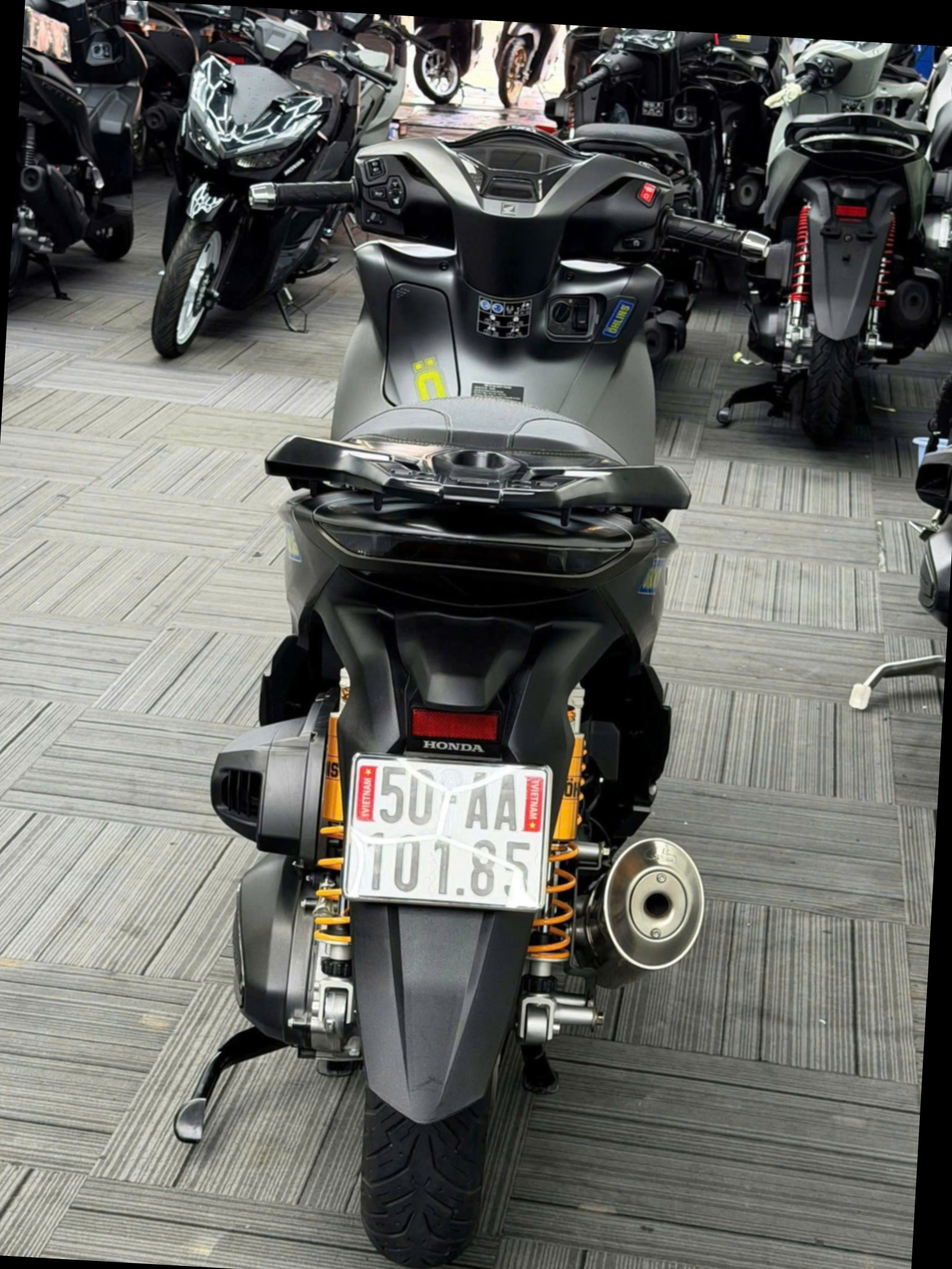Bien-so: (342, 706, 556, 866)
